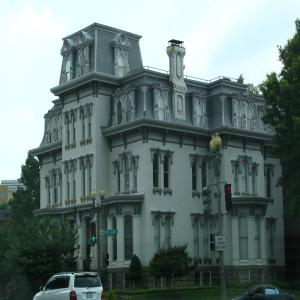Vehicle-registration-plate: (87, 292, 94, 300)
